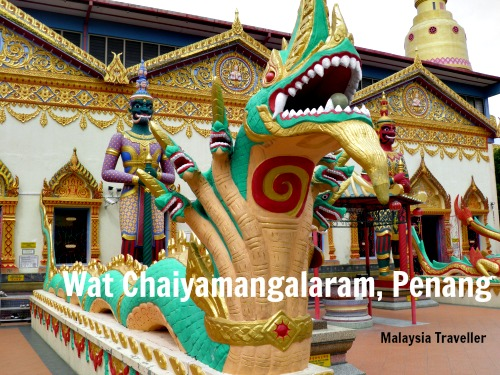Buddhist Temple: (5, 19, 478, 310)
